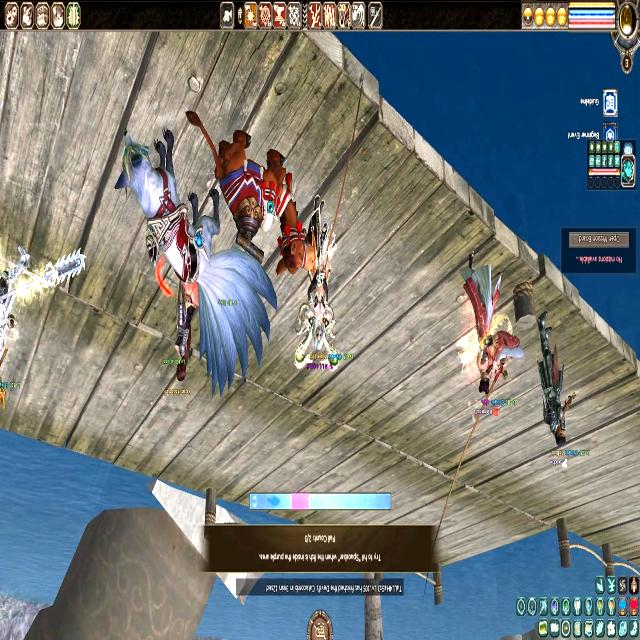fishes: (268, 496, 278, 508)
